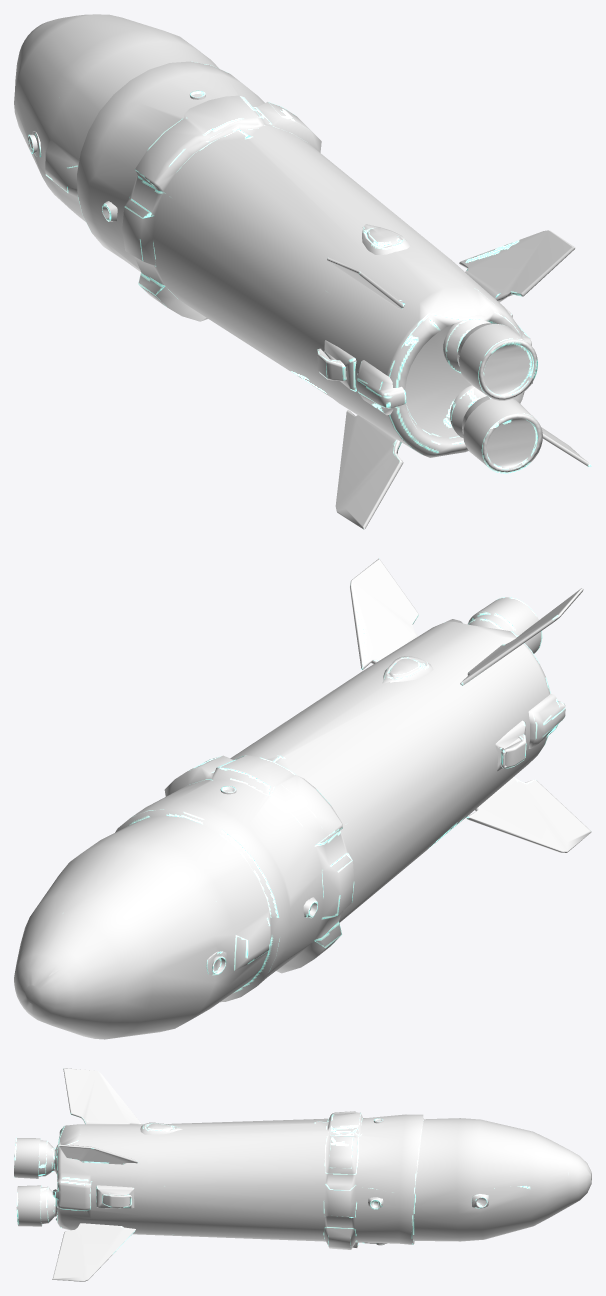
File: icbm_v3.glb
3 renders of one model, top to bottom at view 1: azimuth 30°, elevation 25°; view 2: azimuth 150°, elevation 25°; view 3: azimuth 270°, elevation 25°, orthographic. The views are drawn at different scales.
Parts seen in each view (by area): view 1: icbm_v3; view 2: icbm_v3; view 3: icbm_v3.
Boxes of the visible parts, x1,y1,x2,y2 form: icbm_v3: (14,14,591,529); icbm_v3: (14,558,591,1039); icbm_v3: (14,1068,591,1281).
Bounding box in the file's own units: 0.8845 × 0.9311 × 3.17.
Materials: 1 (1 with a texture image).
